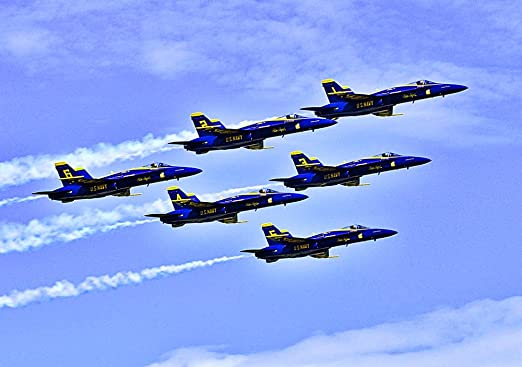plane: (28, 160, 202, 205), (166, 112, 338, 152), (299, 79, 475, 118), (269, 151, 439, 191), (241, 222, 400, 264), (148, 186, 315, 225)
